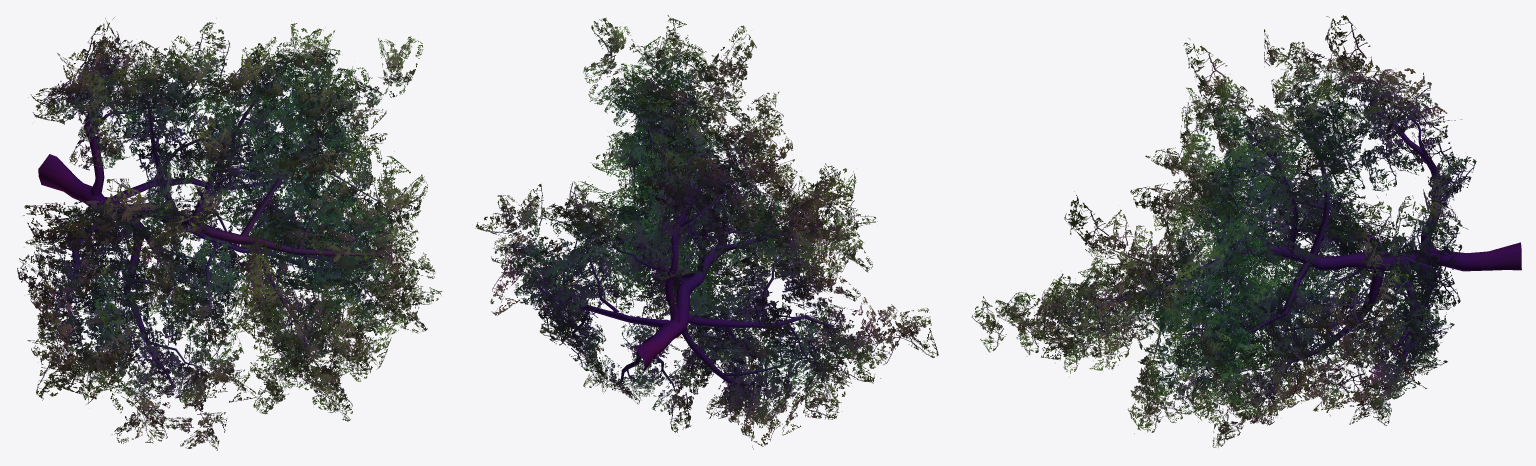
File: oak_large_oak_tree_001_lod1.glb
3 renders of one model, left to right at view 1: azimuth 30°, elevation 25°; view 2: azimuth 150°, elevation 25°; view 3: azimuth 270°, elevation 25°, orthographic. The views are drawn at different scales.
Parts seen in each view (by area): view 1: Large_oak_tree_001_LOD1; view 2: Large_oak_tree_001_LOD1; view 3: Large_oak_tree_001_LOD1.
Part boxes in pixels (box(x1,y1,x2,y2)): Large_oak_tree_001_LOD1: box(17, 17, 442, 450); Large_oak_tree_001_LOD1: box(475, 15, 938, 449); Large_oak_tree_001_LOD1: box(971, 15, 1521, 447).
Size of the model in its own units: 23.33 by 22.41 by 26.48.
2 materials, 2 textured.
